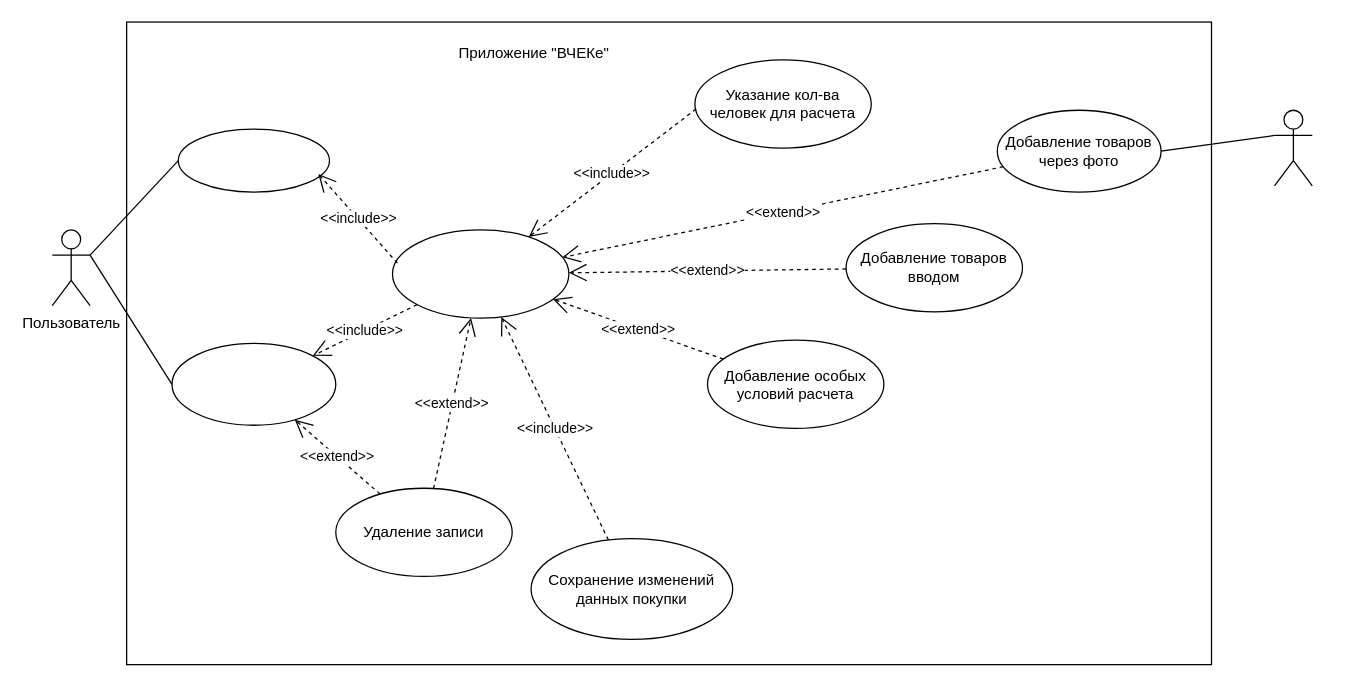
Some shapes in this 1358 by 687 pixel diagram are drawn without their labels. The box of each missing label's shape, as (x1, y1, x2, y2) in pixels:
Выбор покупки из истории: (171, 342, 336, 425)
Открытие формы покупки: (391, 229, 569, 318)
Система обработки фотографий: (1273, 109, 1312, 186)
Создание новой покупки: (177, 128, 329, 192)
